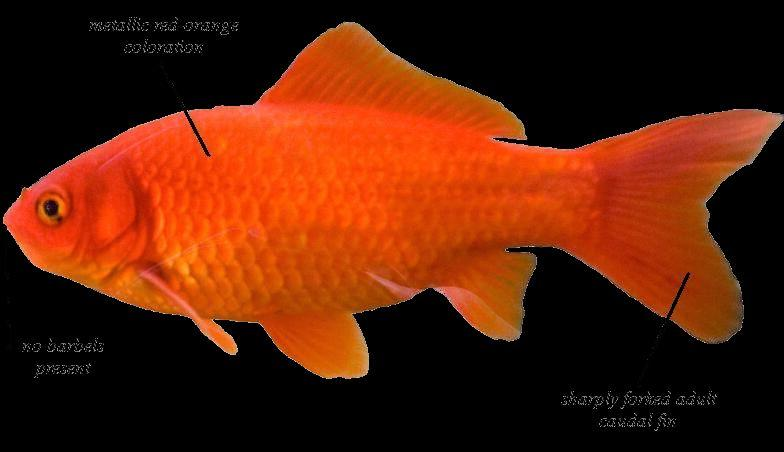Gold Fish: (8, 22, 784, 382)
